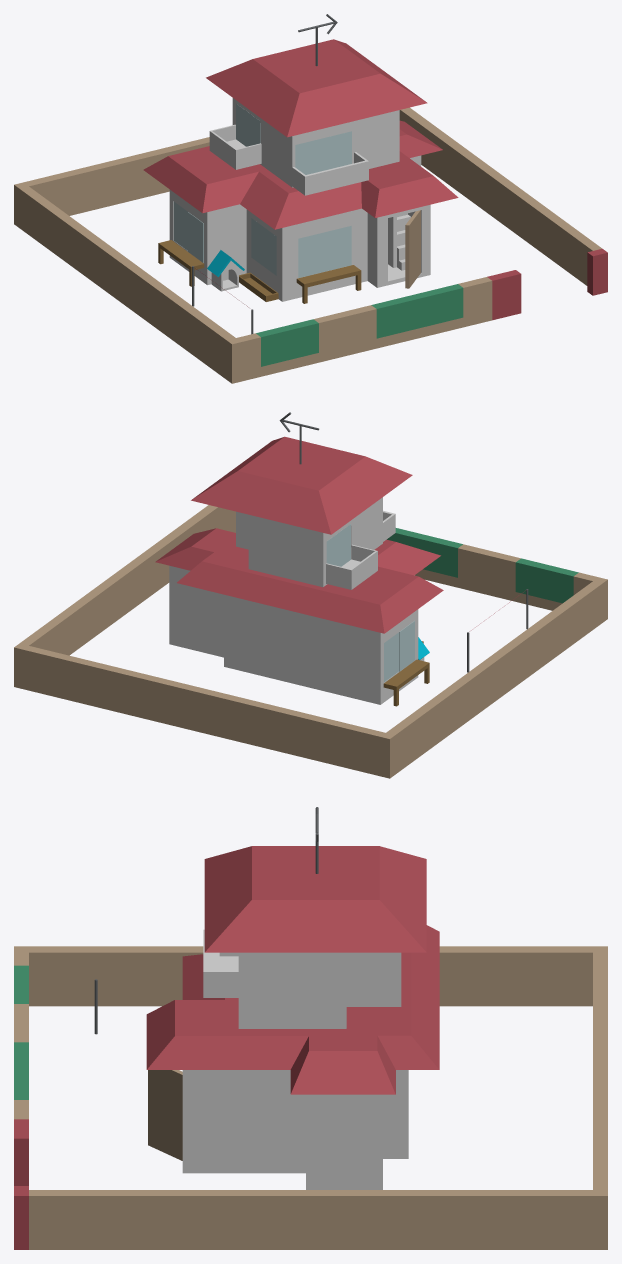
The model's file is rumah1.glb.
3 renders of one model, top to bottom at view 1: azimuth 30°, elevation 25°; view 2: azimuth 150°, elevation 25°; view 3: azimuth 270°, elevation 25°, orthographic. The views are drawn at different scales.
Visible parts, largest first — view 1: Mesh_Mesh_head_geo.001_lambert2SG.001; view 2: Mesh_Mesh_head_geo.001_lambert2SG.001; view 3: Mesh_Mesh_head_geo.001_lambert2SG.001.
Boxes of the visible parts, <box> form: Mesh_Mesh_head_geo.001_lambert2SG.001: <box>14,14,607,383</box>; Mesh_Mesh_head_geo.001_lambert2SG.001: <box>14,412,607,778</box>; Mesh_Mesh_head_geo.001_lambert2SG.001: <box>14,807,607,1249</box>.
Size of the model in its own units: 0.199 by 0.1203 by 0.2.
